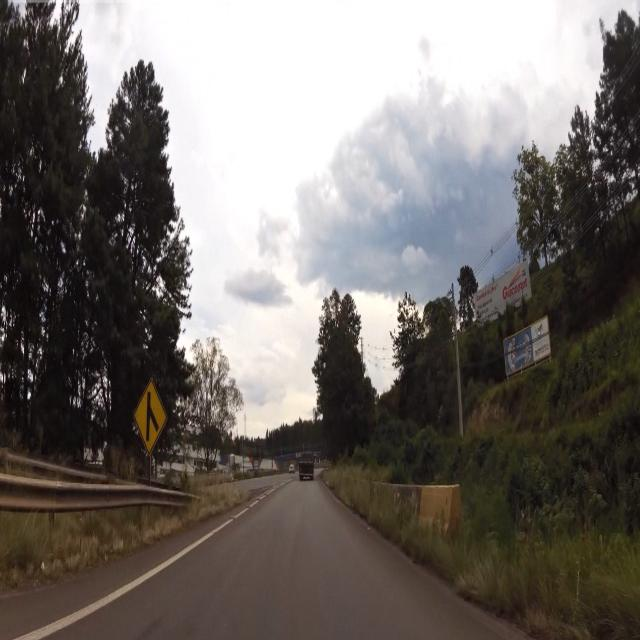A-13b: (134, 380, 165, 454)
